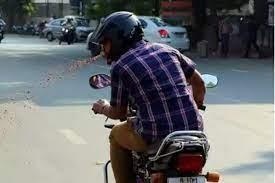spitting: (7, 5, 219, 180)
